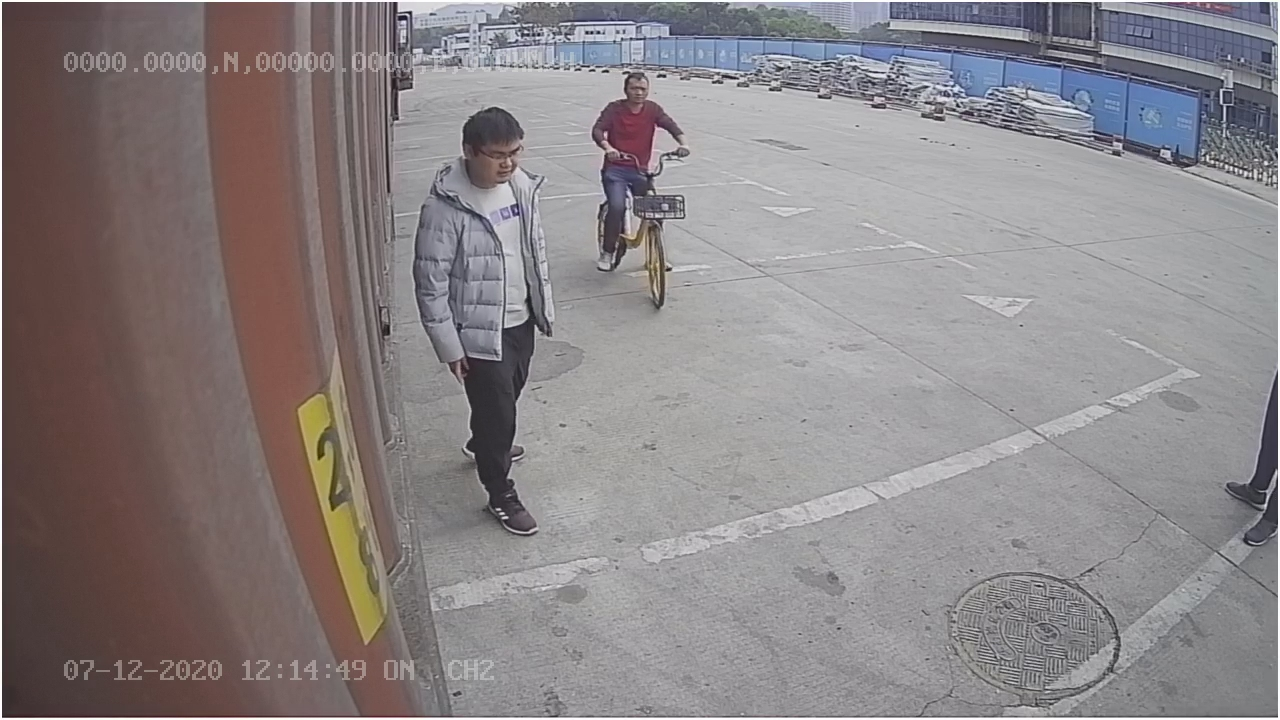person: (411, 101, 553, 538)
